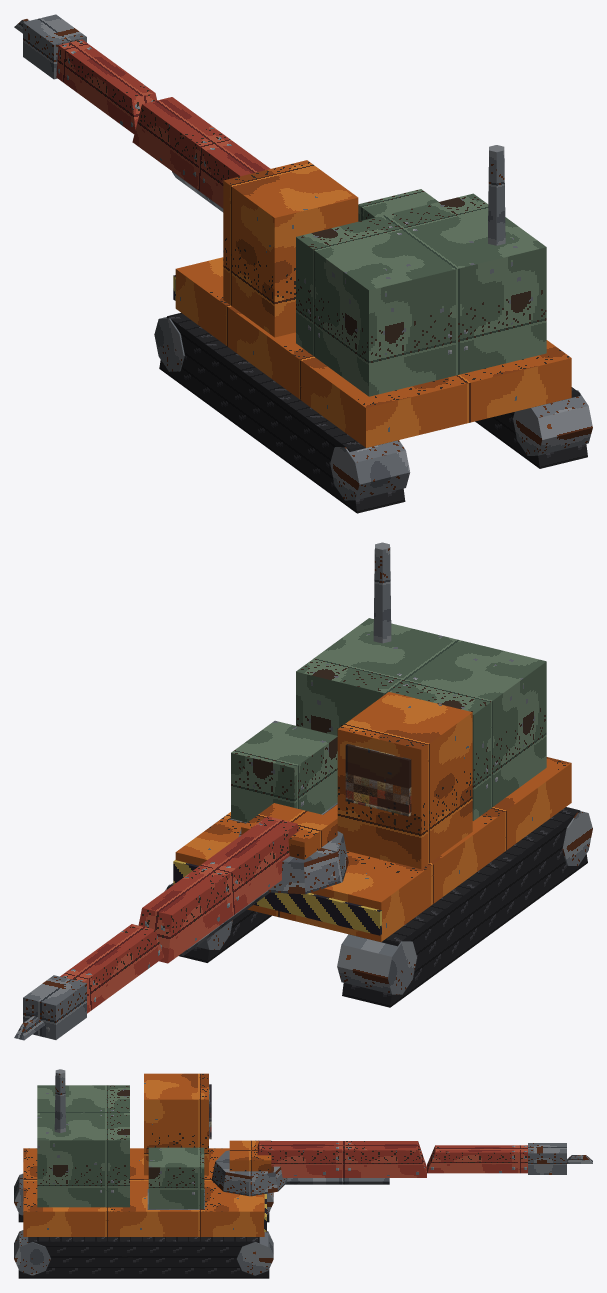
Rendered from machinery__heavy_breaker.glb.
The picture shows the model from 3 angles, top to bottom: view 1: azimuth 30°, elevation 25°; view 2: azimuth 150°, elevation 25°; view 3: azimuth 270°, elevation 25°; orthographic projection. The views are drawn at different scales.
Parts seen in each view (by area): view 1: _MeshInstance3D_122, _MeshInstance3D_123, _MeshInstance3D_120, _MeshInstance3D_121, _MeshInstance3D_131, _MeshInstance3D_134, _MeshInstance3D_135; view 2: _MeshInstance3D_123, _MeshInstance3D_122, _MeshInstance3D_120, _MeshInstance3D_131, _MeshInstance3D_121, _MeshInstance3D_134, _MeshInstance3D_125, _MeshInstance3D_124, _MeshInstance3D_135, _MeshInstance3D_128, _MeshInstance3D_129; view 3: _MeshInstance3D_123, _MeshInstance3D_122, _MeshInstance3D_120, _MeshInstance3D_131, _MeshInstance3D_121, _MeshInstance3D_134, _MeshInstance3D_128, _MeshInstance3D_135, _MeshInstance3D_129, _MeshInstance3D_132.
Part boxes in pixels (x1,y1,x2,y2): _MeshInstance3D_122: (296,189,546,396); _MeshInstance3D_123: (175,160,571,447); _MeshInstance3D_120: (159,313,587,513); _MeshInstance3D_121: (154,145,592,500); _MeshInstance3D_131: (132,97,270,208); _MeshInstance3D_134: (56,39,157,133); _MeshInstance3D_135: (23,14,86,79); _MeshInstance3D_123: (175,692,571,941); _MeshInstance3D_122: (231,618,546,822); _MeshInstance3D_120: (167,807,587,1007); _MeshInstance3D_131: (138,816,299,963); _MeshInstance3D_121: (164,542,592,994); _MeshInstance3D_134: (60,924,163,1013); _MeshInstance3D_125: (345,744,411,816); _MeshInstance3D_124: (173,860,381,935); _MeshInstance3D_135: (23,975,86,1039); _MeshInstance3D_128: (238,828,348,894); _MeshInstance3D_129: (241,803,337,859); _MeshInstance3D_123: (23,1073,264,1236); _MeshInstance3D_122: (37,1085,204,1208); _MeshInstance3D_120: (18,1213,269,1278); _MeshInstance3D_131: (257,1141,426,1177); _MeshInstance3D_121: (14,1069,273,1275); _MeshInstance3D_134: (427,1145,527,1173); _MeshInstance3D_128: (211,1150,287,1196); _MeshInstance3D_135: (528,1143,566,1174); _MeshInstance3D_129: (229,1140,271,1171); _MeshInstance3D_132: (285,1178,389,1184).
Bounding box in the file's own units: 1.84 × 2.25 × 6.24.
7 materials, 7 textured.
